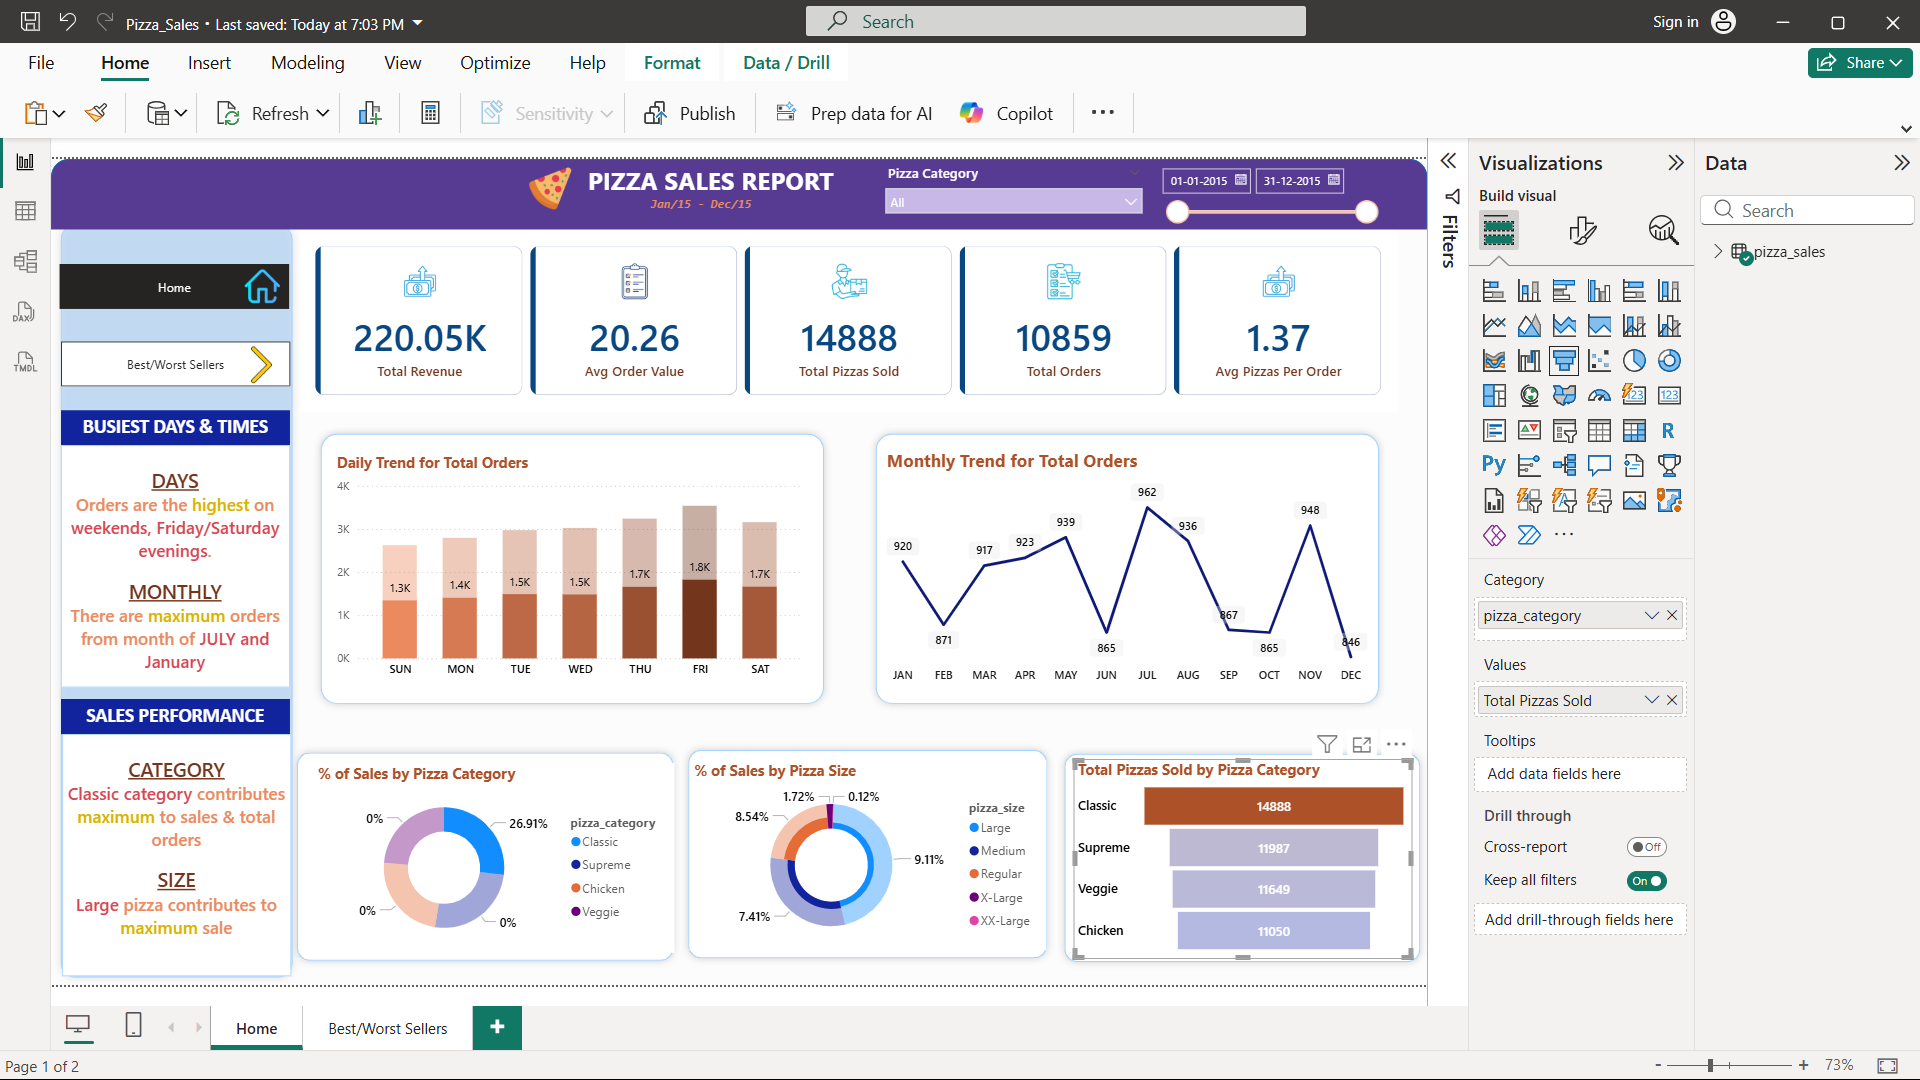

Layout of this report page (visuals, bound fields, positions):
{"tool":"powerbi","page":{"name":"Home","canvas":[1500,900],"ordinal":0},"visuals":[{"type":"shape","box":[3.2,64.3,268.5,836.2],"z":0},{"type":"textbox","box":[11.3,273.4,249.3,38.6],"z":1000},{"type":"cardVisual","fields":{"Data":["pizza_sales.Total Revenue","pizza_sales.Avg Order Value","pizza_sales.Total Pizzas Sold","pizza_sales.Total Orders","pizza_sales.Avg Pizzas Per Order"]},"box":[271.8,77.2,1196.4,197.8],"z":2000},{"type":"shape","box":[0,0,1500.3,77.2],"z":3000},{"type":"textbox","box":[580.5,0,289.5,45],"z":4000},{"type":"textbox","box":[648.1,33.8,152.8,30.6],"z":5000},{"type":"image","box":[490.5,8,107.7,48.2],"z":6000},{"type":"shape","box":[285.9,292,564.4,310.4],"z":7000},{"type":"columnChart","title":"Daily Trend for Total Orders","fields":{"Category":["pizza_sales.Order Day"],"Y":["pizza_sales.Total Orders"]},"box":[306.8,319.4,517.8,255.7],"z":8000},{"type":"shape","box":[890.5,292,564.4,310.4],"z":9000},{"type":"areaChart","title":"Monthly Trend for Total Orders","fields":{"Y":["pizza_sales.Total Orders"],"Category":["pizza_sales.Order Month"]},"box":[906.6,316.1,533.9,265.3],"z":10000},{"type":"shape","box":[260.5,638.4,426.1,242.8],"z":11000},{"type":"shape","box":[686.6,636.8,406.8,242.8],"z":12000},{"type":"shape","box":[1096.4,640,403.6,242.8],"z":13000},{"type":"donutChart","title":"% of Sales by Pizza Category","fields":{"Category":["pizza_sales.pizza_category"],"Y":["pizza_sales.Total Revenue"]},"box":[286.2,657.7,394,207.4],"z":14000},{"type":"donutChart","title":"% of Sales by Pizza Size","fields":{"Y":["pizza_sales.Total Revenue"],"Category":["pizza_sales.pizza_size"]},"box":[696.3,656.1,389.2,207.4],"z":15000},{"type":"funnel","title":"Total Pizzas Sold by Pizza Category","fields":{"Category":["pizza_sales.pizza_category"],"Y":["pizza_sales.Total Pizzas Sold"]},"box":[1114,654.5,369.9,217.1],"z":16000},{"type":"textbox","box":[11.3,312,249.3,263.7],"z":17000},{"type":"textbox","box":[11.3,588.6,249.3,38.6],"z":18000},{"type":"textbox","box":[12.9,627.1,249.3,263.7],"z":19000},{"type":"slicer","fields":{"Values":["pizza_sales.pizza_category"]},"box":[898.9,0,300.7,64.3],"z":20000},{"type":"slicer","fields":{"Values":["pizza_sales.order_date"]},"box":[1199.6,0,255.7,77.2],"z":21000},{"type":"pageNavigator","box":[9.6,114.2,250.9,49.9],"z":21001},{"type":"pageNavigator","box":[11.3,199.4,250.9,49.9],"z":21002},{"type":"image","box":[180.1,204.2,99.7,40.2],"z":21004},{"type":"image","box":[210.7,112.6,38.6,51.5],"z":21005}]}

Visuals, with their boxes on the page's 1500x900 design canvas (x1, y1, x2, y2). These are canvas units, not pixel positions in the 1920x1080 screenshot, which may show the page scaled, cropped or inside an application window:
shape: 3 64 272 900
textbox: 11 273 261 312
cardVisual - pizza_sales.Total Revenue x pizza_sales.Avg Order Value: 272 77 1468 275
shape: 0 0 1500 77
textbox: 580 0 870 45
textbox: 648 34 801 64
image: 490 8 598 56
shape: 286 292 850 602
"Daily Trend for Total Orders" columnChart: 307 319 825 575
shape: 890 292 1455 602
"Monthly Trend for Total Orders" areaChart: 907 316 1440 581
shape: 260 638 687 881
shape: 687 637 1093 880
shape: 1096 640 1500 883
"% of Sales by Pizza Category" donutChart: 286 658 680 865
"% of Sales by Pizza Size" donutChart: 696 656 1086 864
"Total Pizzas Sold by Pizza Category" funnel: 1114 654 1484 872
textbox: 11 312 261 576
textbox: 11 589 261 627
textbox: 13 627 262 891
slicer - pizza_sales.pizza_category: 899 0 1200 64
slicer - pizza_sales.order_date: 1200 0 1455 77
pageNavigator: 10 114 260 164
pageNavigator: 11 199 262 249
image: 180 204 280 244
image: 211 113 249 164
